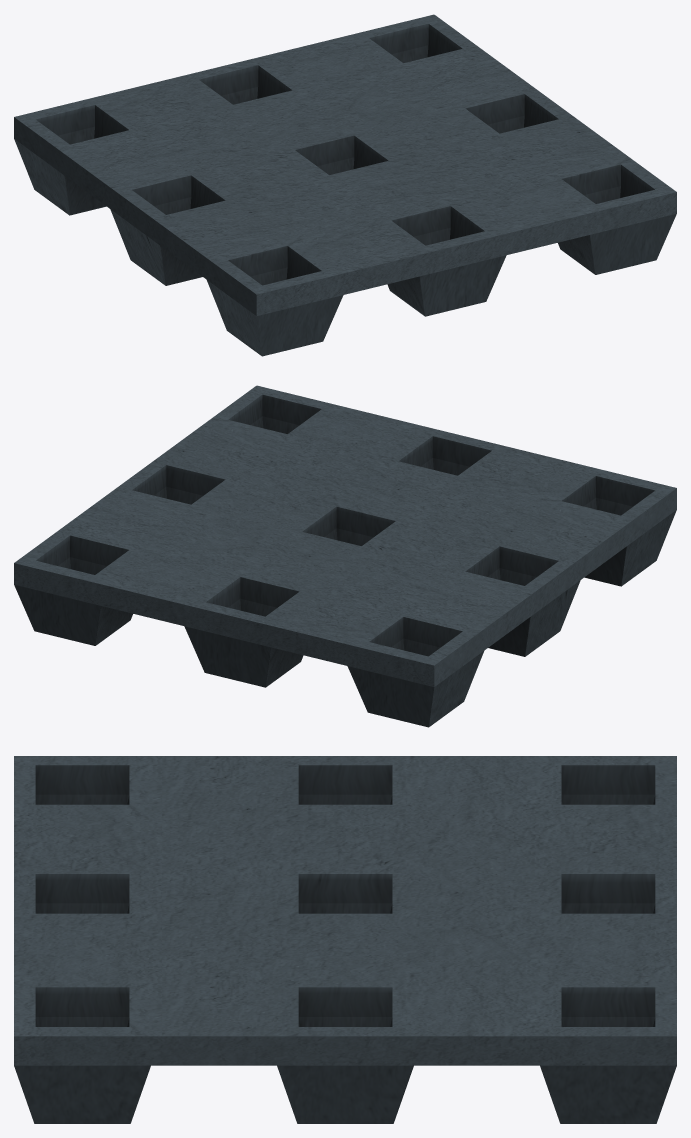
The model's file is Palette_Plastic.fbx.
3 renders of one model, top to bottom at view 1: azimuth 30°, elevation 25°; view 2: azimuth 150°, elevation 25°; view 3: azimuth 270°, elevation 25°, orthographic. The views are drawn at different scales.
Parts seen in each view (by area): view 1: polySurface1; view 2: polySurface1; view 3: polySurface1.
Part boxes in pixels (x1,y1,x2,y2): polySurface1: [14, 14, 676, 356]; polySurface1: [14, 385, 676, 727]; polySurface1: [14, 756, 676, 1123].
Bounding box in the file's own units: 170 × 27.22 × 170.
